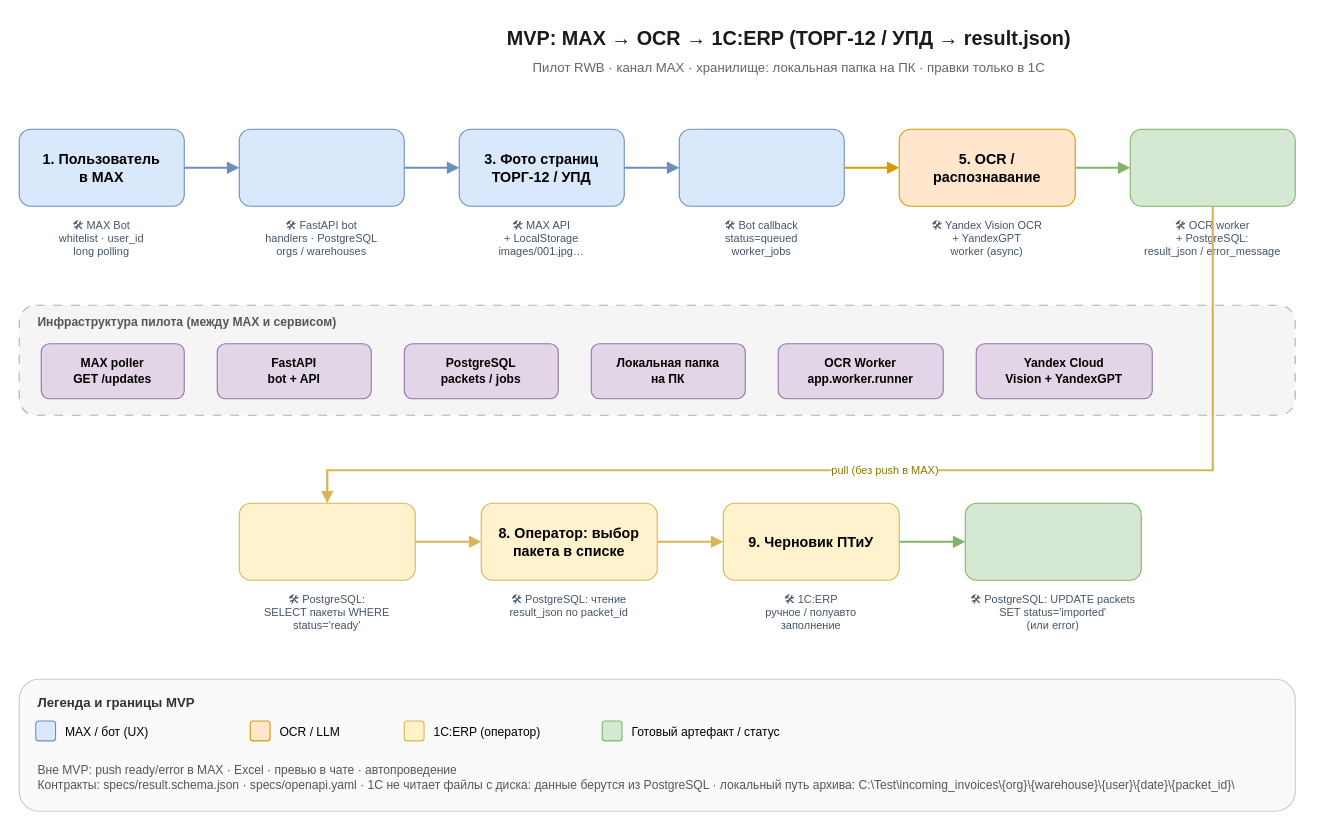
Image size: 1337x831. Some labels were removed from this diagram. The shapes that lost their labels are listed below. From the top down, each one's centre as x and y in pixels, then its label:
the point at 321,167: 2. Org / склад
the point at 761,167: 4. «Завершить пакет»
the point at 1212,167: 6. Результат: status = ready / error
the point at 326,541: 7. 1С: обновить список ready
the point at 1052,541: 10. 1С: запись status = imported
